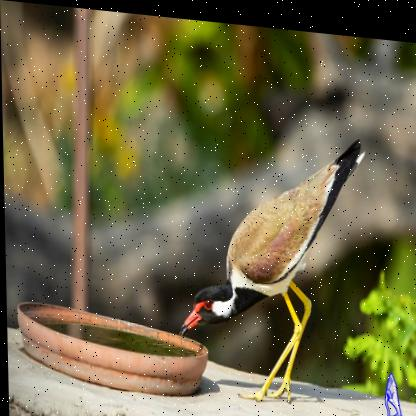Burung: (173, 116, 369, 405)
